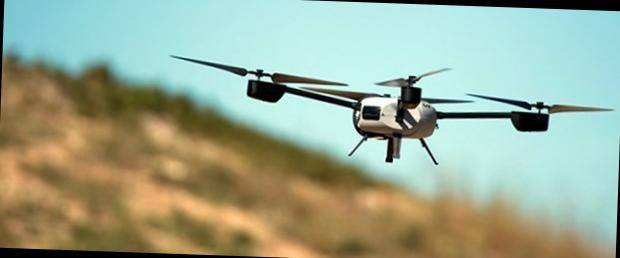drone: (148, 35, 620, 173)
